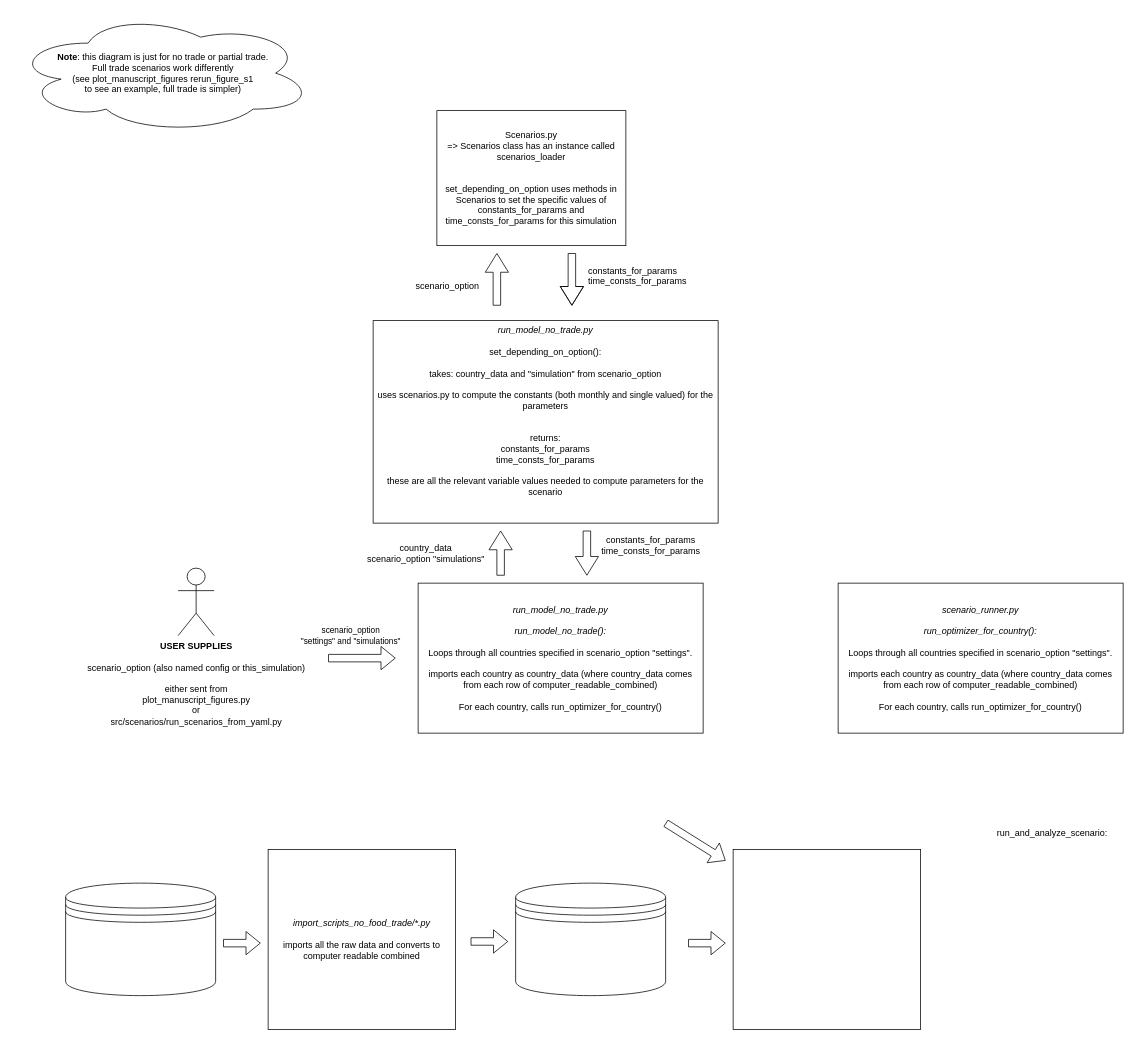
Image size: 1144x1043. Some labels were removed from this diagram. Each missing label, with the centre of its shape:
"computer_readable_combined" belongs at [590,939].
"data/no_food_trade/raw_data" belongs at [140,939].
"scenarios.py takes the" belongs at [826,939].
